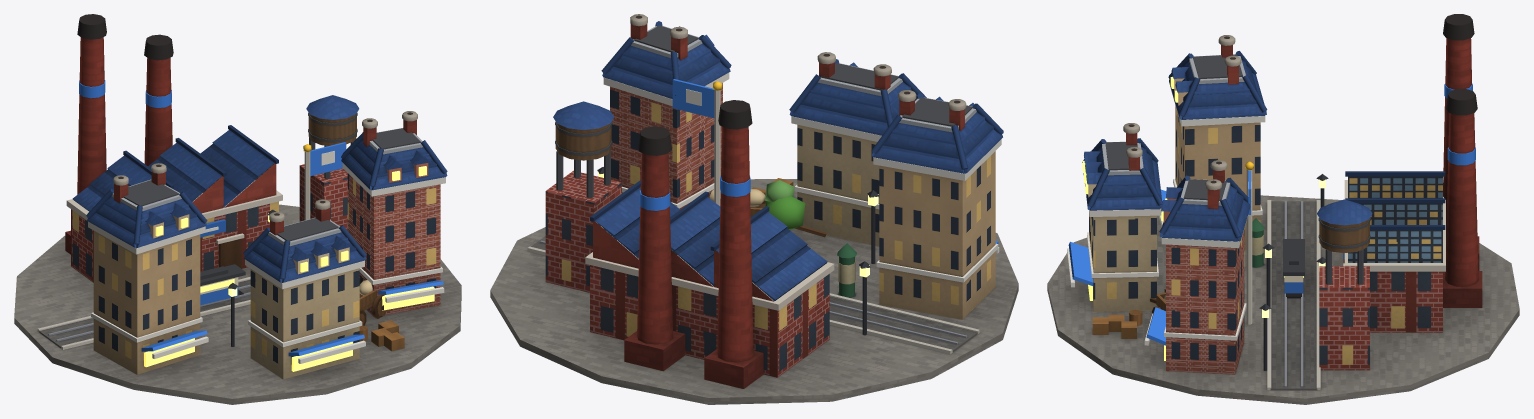
File: city_dl5_blue.glb
3 renders of one model, left to right at view 1: azimuth 30°, elevation 25°; view 2: azimuth 150°, elevation 25°; view 3: azimuth 270°, elevation 25°, orthographic. The views are drawn at different scales.
Parts seen in each view (by area): view 1: city_dl5_blue; view 2: city_dl5_blue; view 3: city_dl5_blue.
Boxes of the visible parts, <box> form: city_dl5_blue: <box>14,14,461,404</box>; city_dl5_blue: <box>490,14,1018,404</box>; city_dl5_blue: <box>1047,14,1519,404</box>.
Bounding box in the file's own units: 1.52 × 0.875 × 1.49.
Materials: 3 (1 with a texture image).
